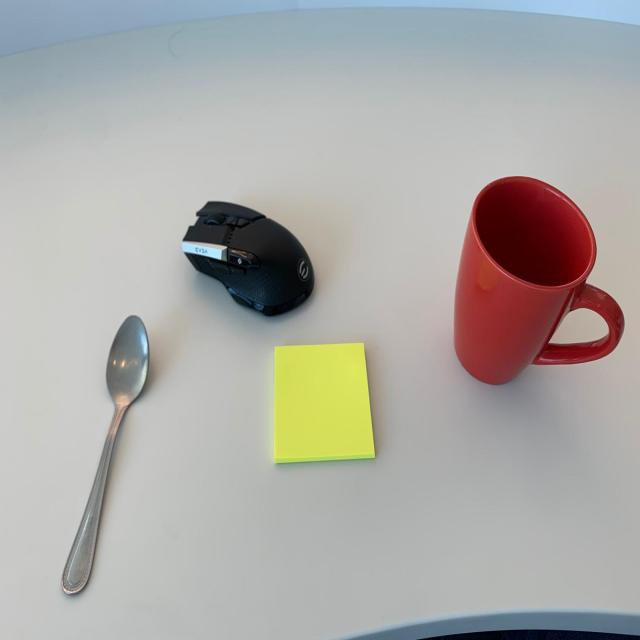Cup: (443, 154, 626, 438)
Mouse: (175, 175, 318, 325)
Spoon: (49, 308, 154, 606)
